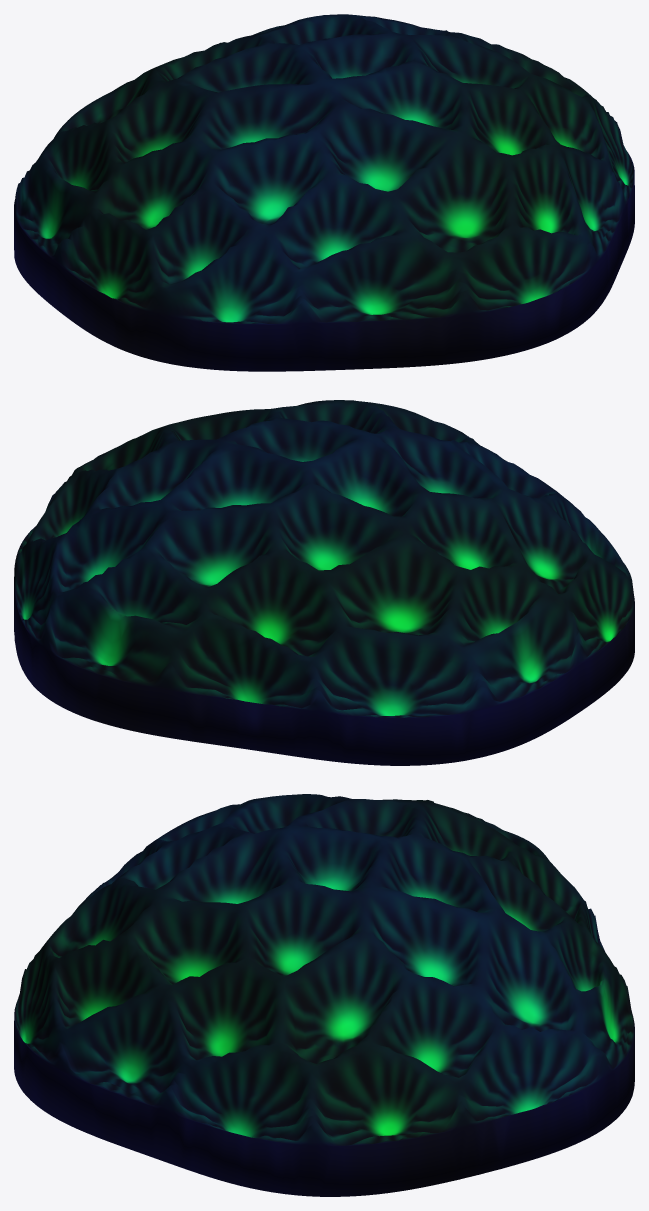
The model's file is reef-favia-war-coral.glb.
The picture shows the model from 3 angles, top to bottom: view 1: azimuth 30°, elevation 25°; view 2: azimuth 150°, elevation 25°; view 3: azimuth 270°, elevation 25°; orthographic projection. The views are drawn at different scales.
Parts seen in each view (by area): view 1: Reef_Favia_War_Coral; view 2: Reef_Favia_War_Coral; view 3: Reef_Favia_War_Coral.
Boxes of the visible parts, left/top/right/bottom form: Reef_Favia_War_Coral: left=14, top=14, right=634, bottom=371; Reef_Favia_War_Coral: left=14, top=400, right=634, bottom=765; Reef_Favia_War_Coral: left=14, top=794, right=634, bottom=1196.
Size of the model in its own units: 0.182 by 0.0621 by 0.1668.
1 material, 1 textured.
